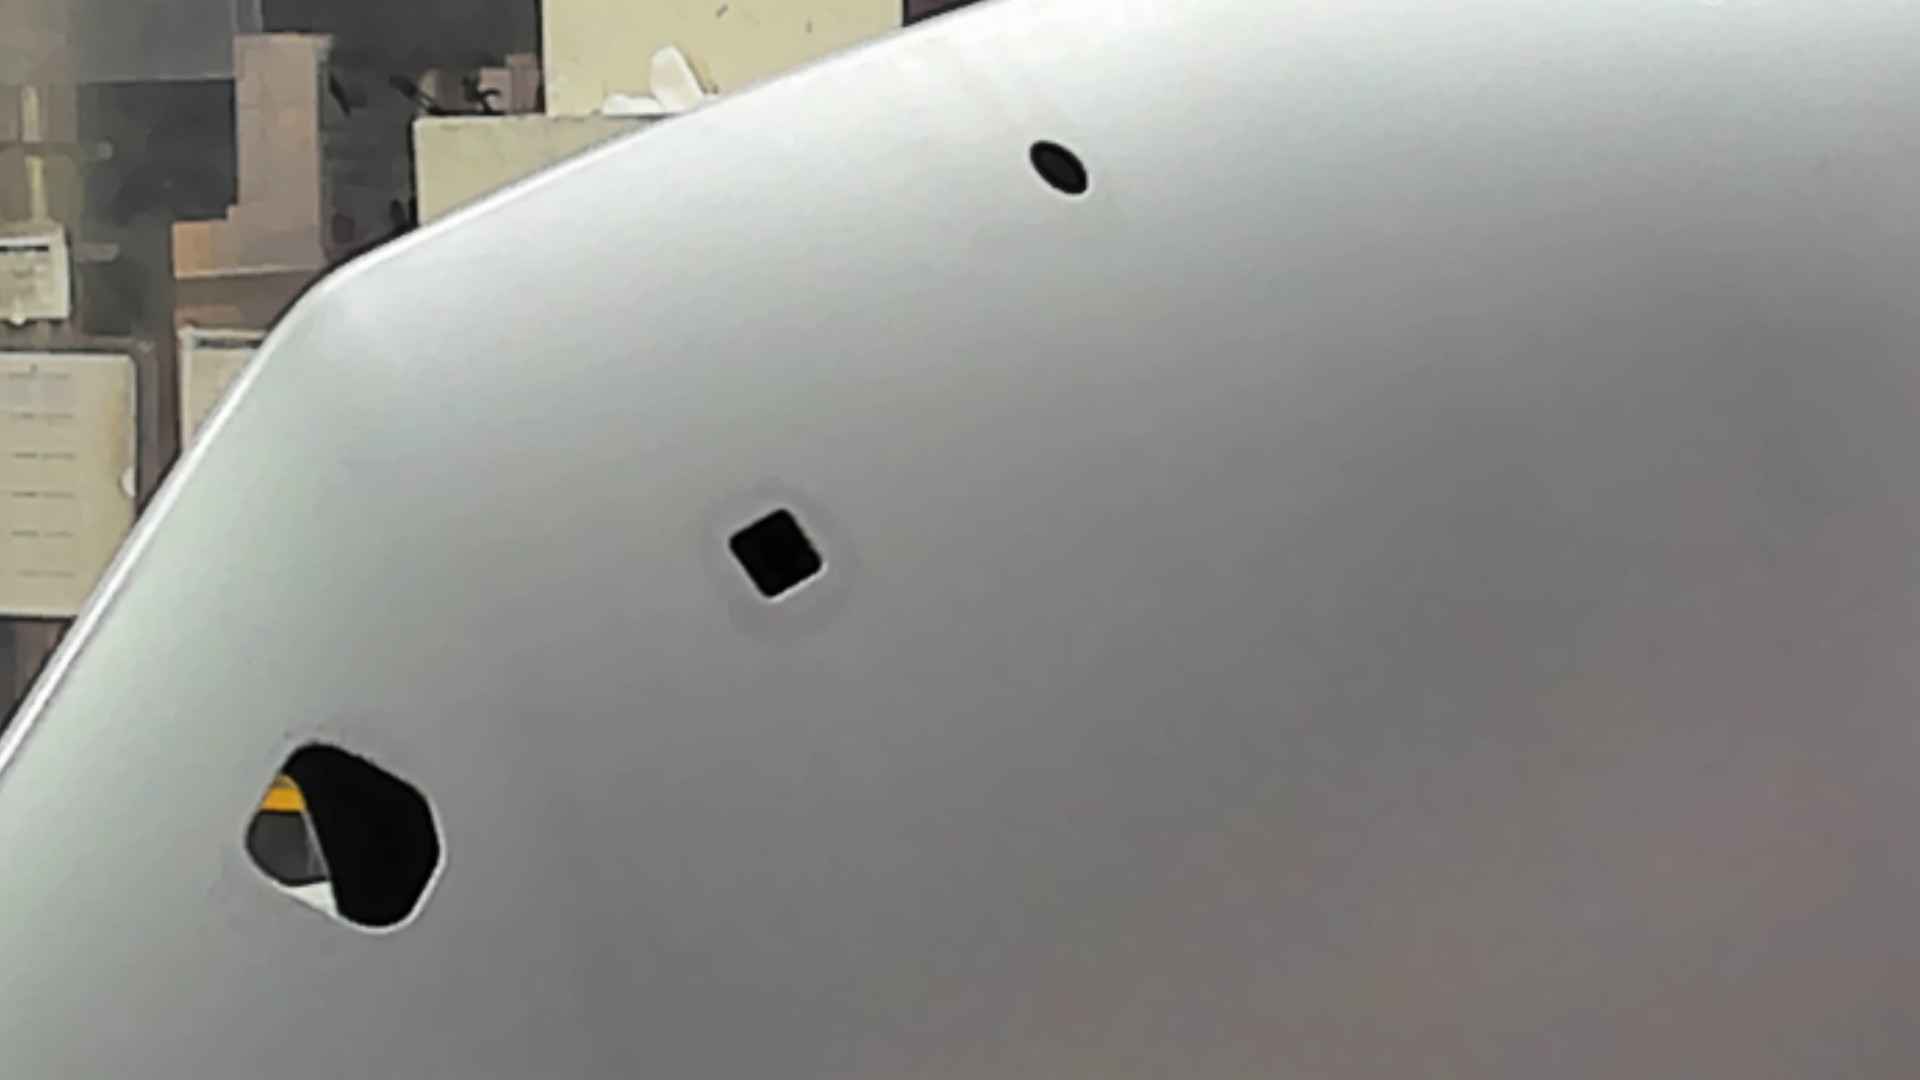chico: (1021, 135, 1097, 204)
grande: (233, 729, 450, 942)
mediano: (721, 502, 829, 609)
